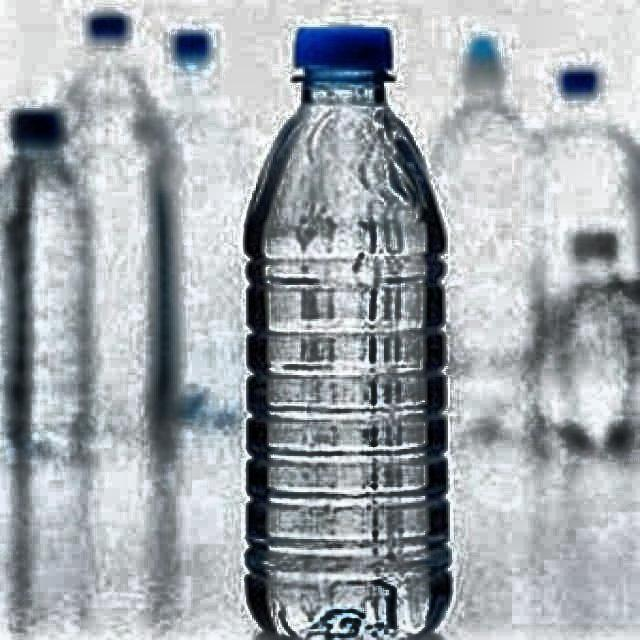plastic bottle: (245, 26, 452, 640), (63, 41, 173, 430), (436, 35, 540, 436), (543, 67, 640, 450), (167, 29, 248, 426), (0, 111, 88, 456)
